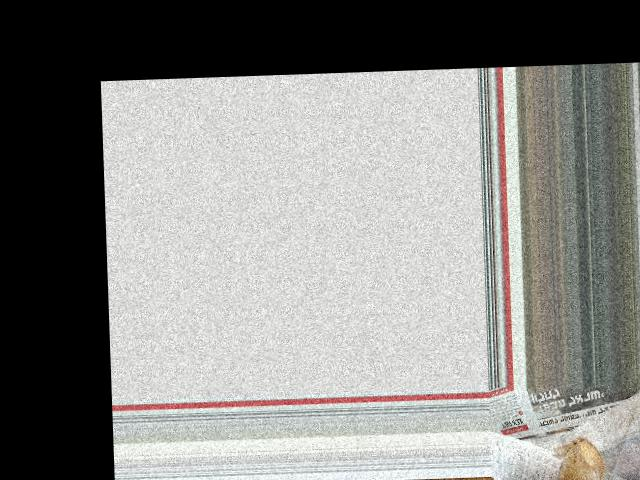onion: (564, 444, 605, 480)
